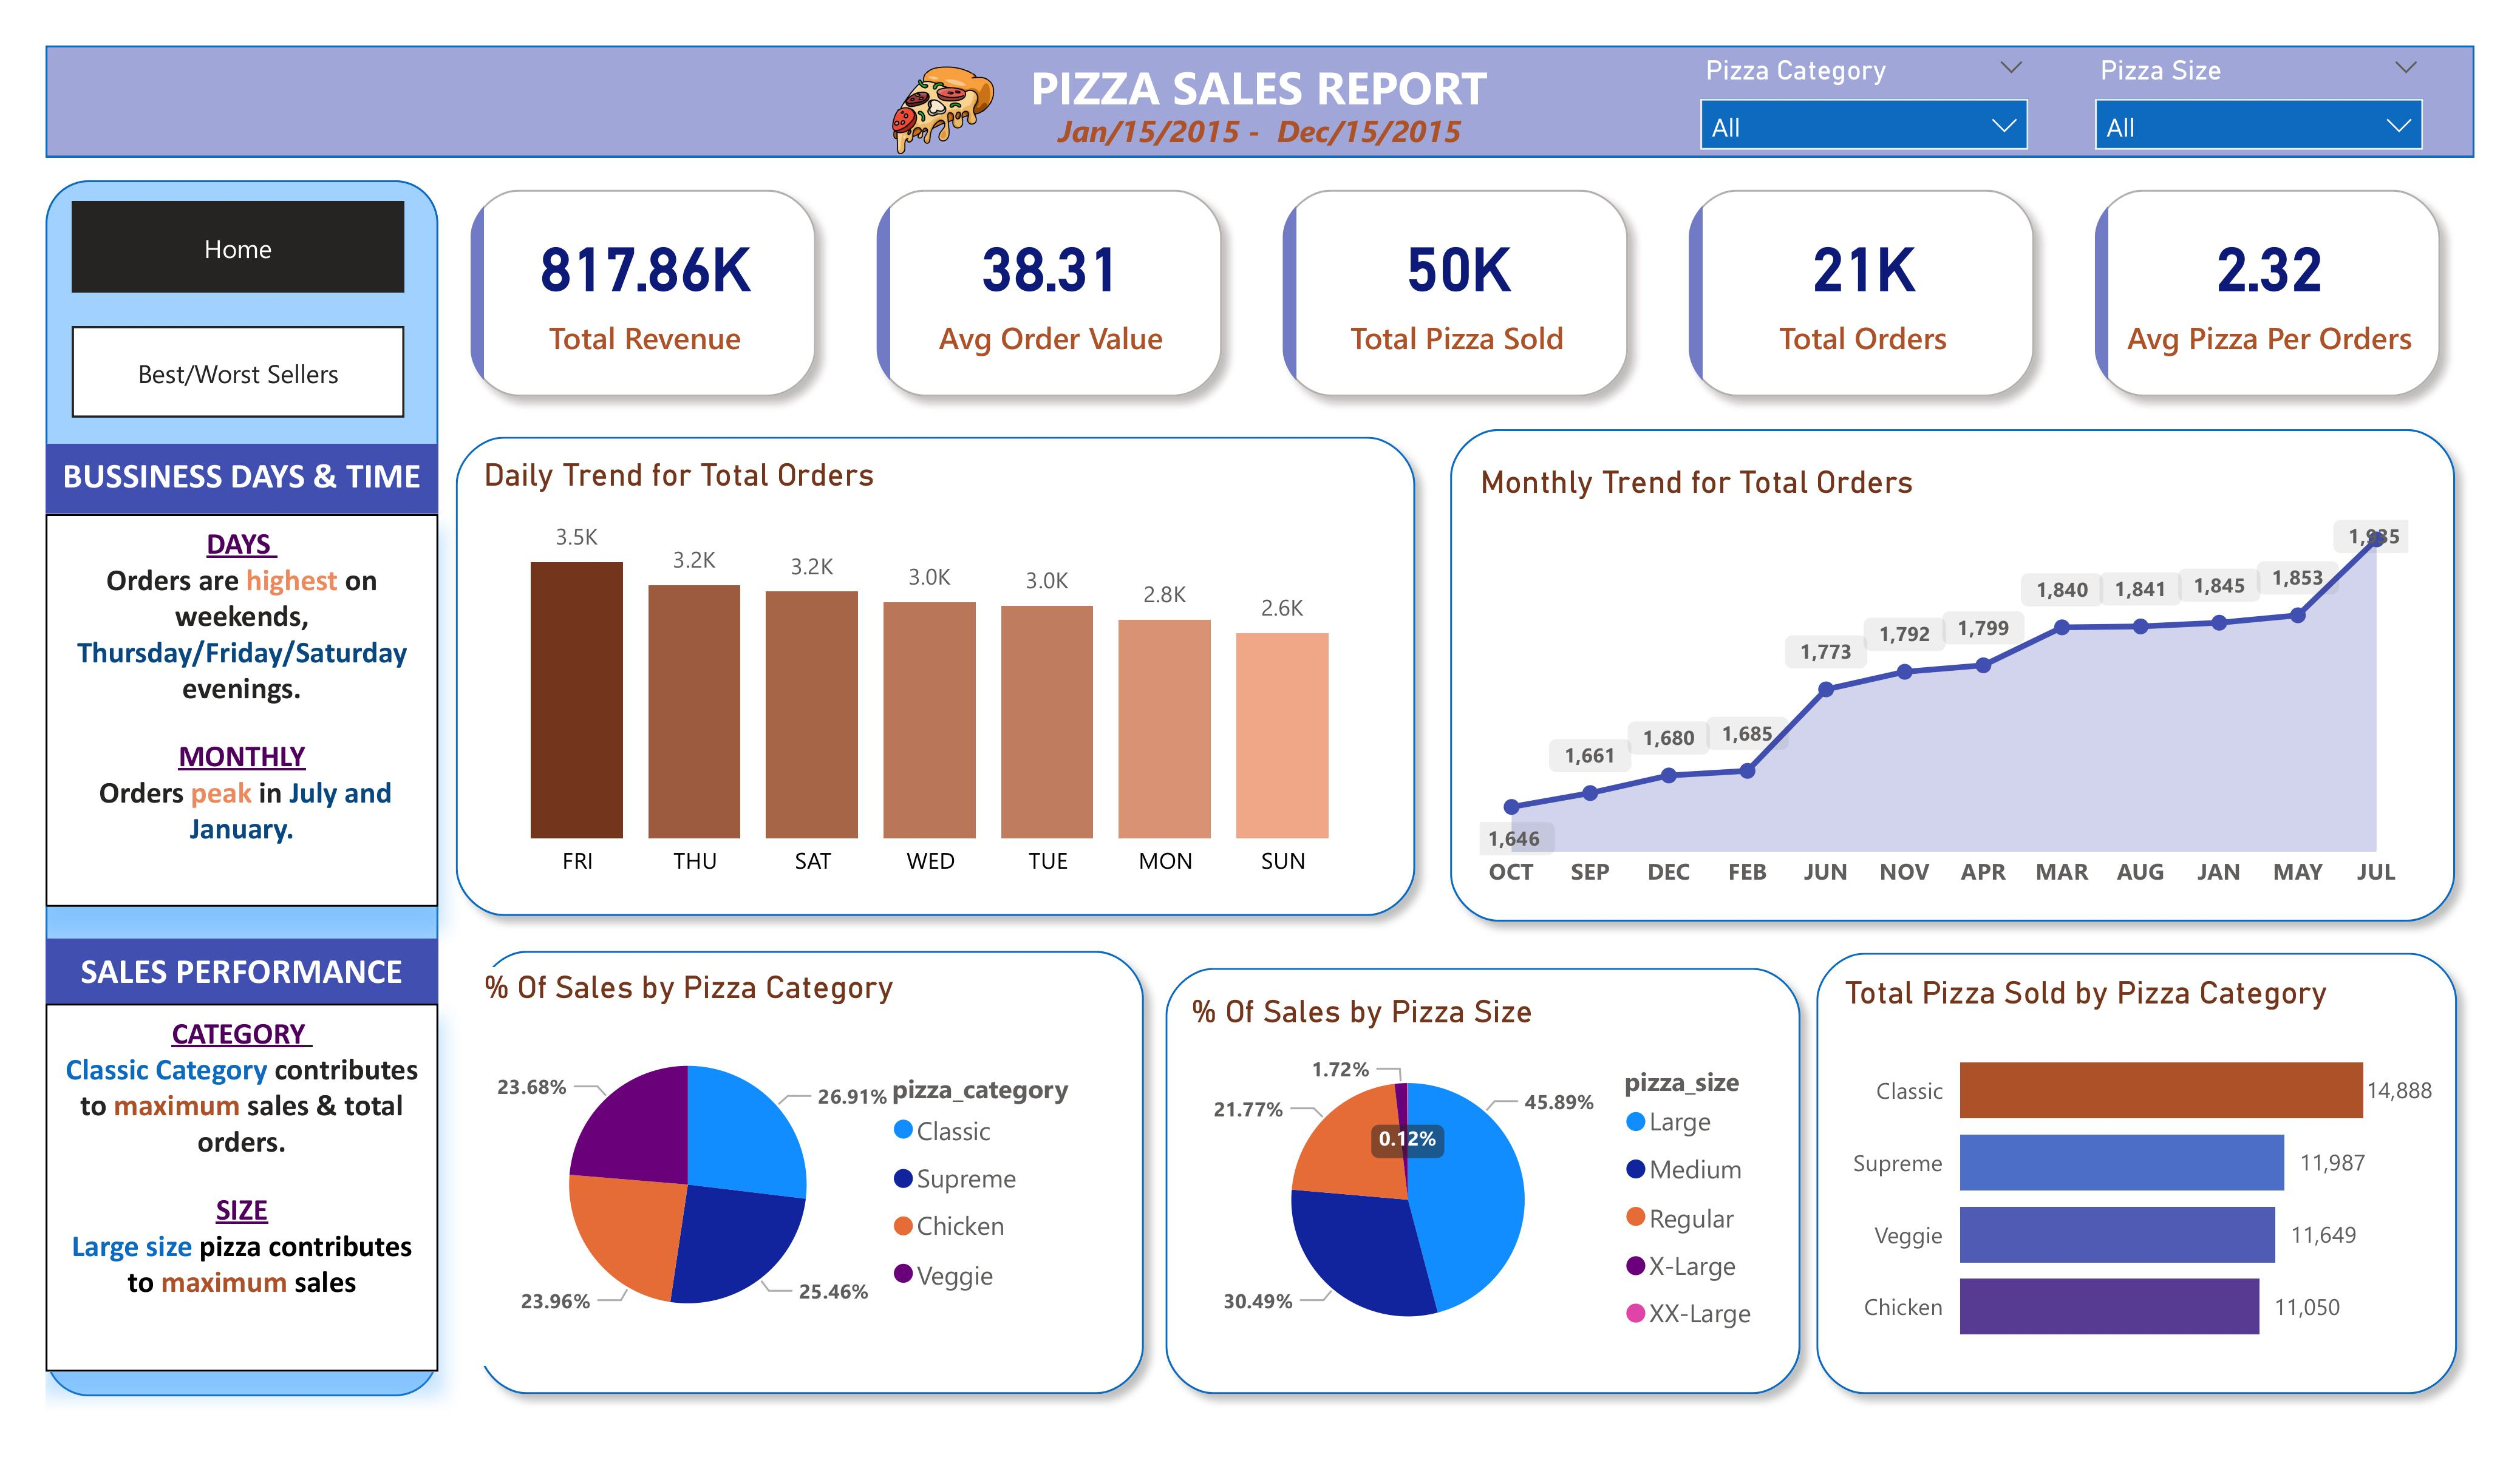

Layout of this report page (visuals, bound fields, positions):
{"tool":"powerbi","page":{"name":"Home","canvas":[1280,720],"ordinal":0},"visuals":[{"type":"shape","box":[0,0,1280,91.4],"z":0},{"type":"shape","box":[0,102.9,161.4,607.1],"z":1000},{"type":"shape","box":[161.4,224.3,534.3,241.4],"z":2000},{"type":"shape","box":[161.9,465.6,359.9,244.1],"z":3000},{"type":"cardVisual","fields":{"Data":["data_cleaned.Revenue","data_cleaned.Total Invoice","data_cleaned.Avg Revenue Per Invoice","data_cleaned.Number of Customers"]},"box":[151.4,85.7,1107.1,138.6],"z":4000},{"type":"shape","box":[712.9,224.3,545,241.3],"z":5000},{"type":"shape","box":[532.3,465.6,359.9,244.1],"z":6000},{"type":"shape","box":[898.1,465.6,359.9,244.1],"z":7000},{"type":"textbox","box":[398.1,9.5,482.7,42.3],"z":8000},{"type":"donutChart","title":"% Revenue by Payment Methods","fields":{"Category":["data_cleaned.Payment_Method"],"Y":["data_cleaned.Revenue"]},"box":[177.1,491.4,344.3,187.1],"z":9000},{"type":"donutChart","title":"% Revenue by Gender","fields":{"Category":["data_cleaned.Gender"],"Y":["data_cleaned.Revenue"]},"box":[912.7,492.3,329.9,191.2],"z":10000},{"type":"donutChart","title":"% Revenue by Age Group","fields":{"Category":["data_cleaned.Age_Group"],"Y":["data_cleaned.Revenue"]},"box":[544.3,491.4,337.1,191.4],"z":11000},{"type":"lineChart","title":"Monthly Total Orders by Year","fields":{"Series":["data_cleaned.Year"],"Category":["data_cleaned.Month Name"],"Y":["Sum(data_cleaned.Total_Price)"]},"box":[177.3,239.7,502.6,215.2],"z":12000},{"type":"columnChart","title":"Daily Trend for Total Orders","fields":{"Category":["data_cleaned.Order Day"],"Y":["data_cleaned.Total Invoice"]},"box":[725.7,240,520,218.6],"z":13000},{"type":"textbox","box":[398.6,48.6,482.9,42.9],"z":14000},{"type":"slicer","fields":{"Values":["data_cleaned.Invoice_Date"]},"box":[1041.4,7.1,217.1,75.7],"z":15000},{"type":"textbox","box":[8.6,240,142.9,37.1],"z":16000},{"type":"slicer","fields":{"Values":["data_cleaned.Category"]},"box":[18.6,272.9,124.3,71.4],"z":17000},{"type":"slicer","fields":{"Values":["data_cleaned.Year"]},"box":[881.4,10,141.4,72.9],"z":18000},{"type":"slicer","fields":{"Values":["data_cleaned.Age_Group"]},"box":[17.1,360,124.3,71.4],"z":19000},{"type":"slicer","fields":{"Values":["data_cleaned.Shopping_Mall"]},"box":[17.1,455.7,124.3,71.4],"z":20000},{"type":"slicer","fields":{"Values":["data_cleaned.Gender"]},"box":[18.6,551.4,124.3,71.4],"z":21000},{"type":"pageNavigator","box":[8.6,131.4,142.9,35.7],"z":22000},{"type":"pageNavigator","box":[10,177.1,142.9,35.7],"z":23000}]}

Visuals, with their boxes on the page's 1280x720 design canvas (x1, y1, x2, y2). These are canvas units, not pixel positions in the 2520x1457 screenshot, which may show the page scaled, cropped or inside an application window:
shape: region(0, 0, 1280, 91)
shape: region(0, 103, 161, 710)
shape: region(161, 224, 696, 466)
shape: region(162, 466, 522, 710)
cardVisual - data_cleaned.Revenue x data_cleaned.Total Invoice: region(151, 86, 1258, 224)
shape: region(713, 224, 1258, 466)
shape: region(532, 466, 892, 710)
shape: region(898, 466, 1258, 710)
textbox: region(398, 10, 881, 52)
"% Revenue by Payment Methods" donutChart: region(177, 491, 521, 678)
"% Revenue by Gender" donutChart: region(913, 492, 1243, 684)
"% Revenue by Age Group" donutChart: region(544, 491, 881, 683)
"Monthly Total Orders by Year" lineChart: region(177, 240, 680, 455)
"Daily Trend for Total Orders" columnChart: region(726, 240, 1246, 459)
textbox: region(399, 49, 882, 92)
slicer - data_cleaned.Invoice_Date: region(1041, 7, 1258, 83)
textbox: region(9, 240, 152, 277)
slicer - data_cleaned.Category: region(19, 273, 143, 344)
slicer - data_cleaned.Year: region(881, 10, 1023, 83)
slicer - data_cleaned.Age_Group: region(17, 360, 141, 431)
slicer - data_cleaned.Shopping_Mall: region(17, 456, 141, 527)
slicer - data_cleaned.Gender: region(19, 551, 143, 623)
pageNavigator: region(9, 131, 152, 167)
pageNavigator: region(10, 177, 153, 213)
